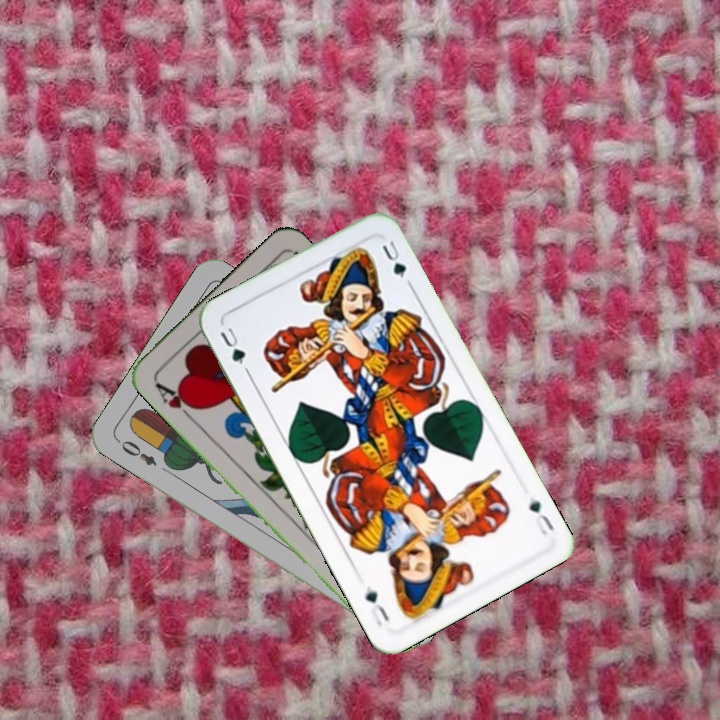EO: (117, 436, 160, 469)
GU: (524, 492, 557, 538), (215, 323, 248, 368)
HA: (151, 378, 201, 423)
